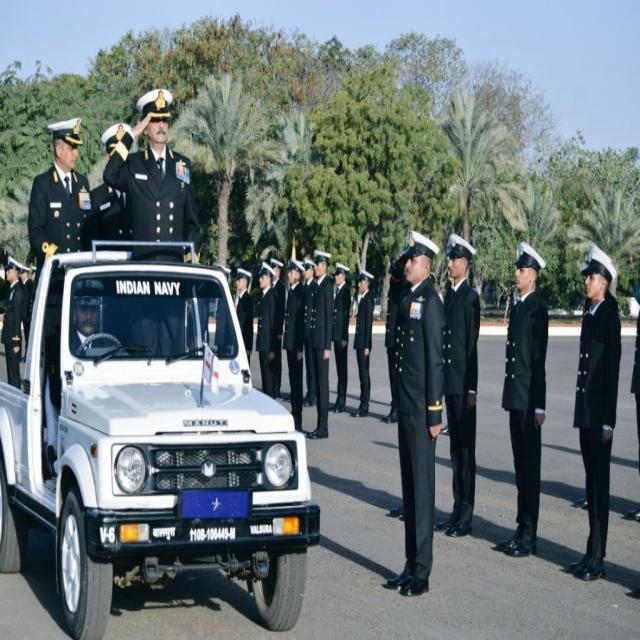military-plate: (183, 523, 246, 548)
